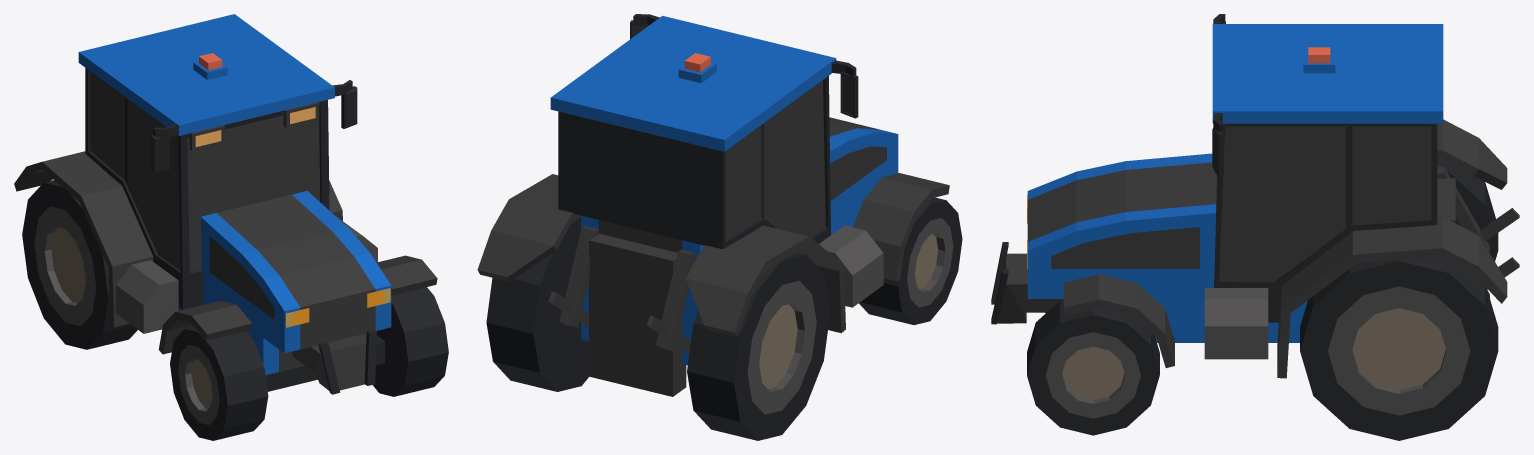
The model's file is Tractor_1.fbx.
3 renders of one model, left to right at view 1: azimuth 30°, elevation 25°; view 2: azimuth 150°, elevation 25°; view 3: azimuth 270°, elevation 25°, orthographic. The views are drawn at different scales.
Parts seen in each view (by area): view 1: Tractor_1, TractorFrontWheels_1, TractorBackWheels_1; view 2: Tractor_1, TractorBackWheels_1, TractorFrontWheels_1; view 3: Tractor_1, TractorBackWheels_1, TractorFrontWheels_1.
Boxes of the visible parts, x1,y1,x2,y2 form: Tractor_1: (14,14,437,394); TractorFrontWheels_1: (170,287,448,440); TractorBackWheels_1: (22,180,137,349); Tractor_1: (477,14,949,396); TractorBackWheels_1: (486,217,830,440); TractorFrontWheels_1: (859,197,962,324); Tractor_1: (991,14,1519,378); TractorBackWheels_1: (1300,159,1498,440); TractorFrontWheels_1: (1027,299,1159,435).
Bounding box in the file's own units: 233 × 270 × 396.
